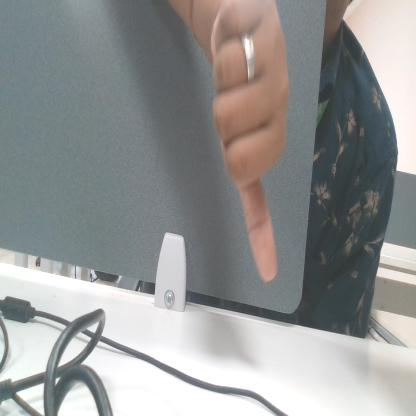Thumbs Down: (204, 5, 290, 280)
